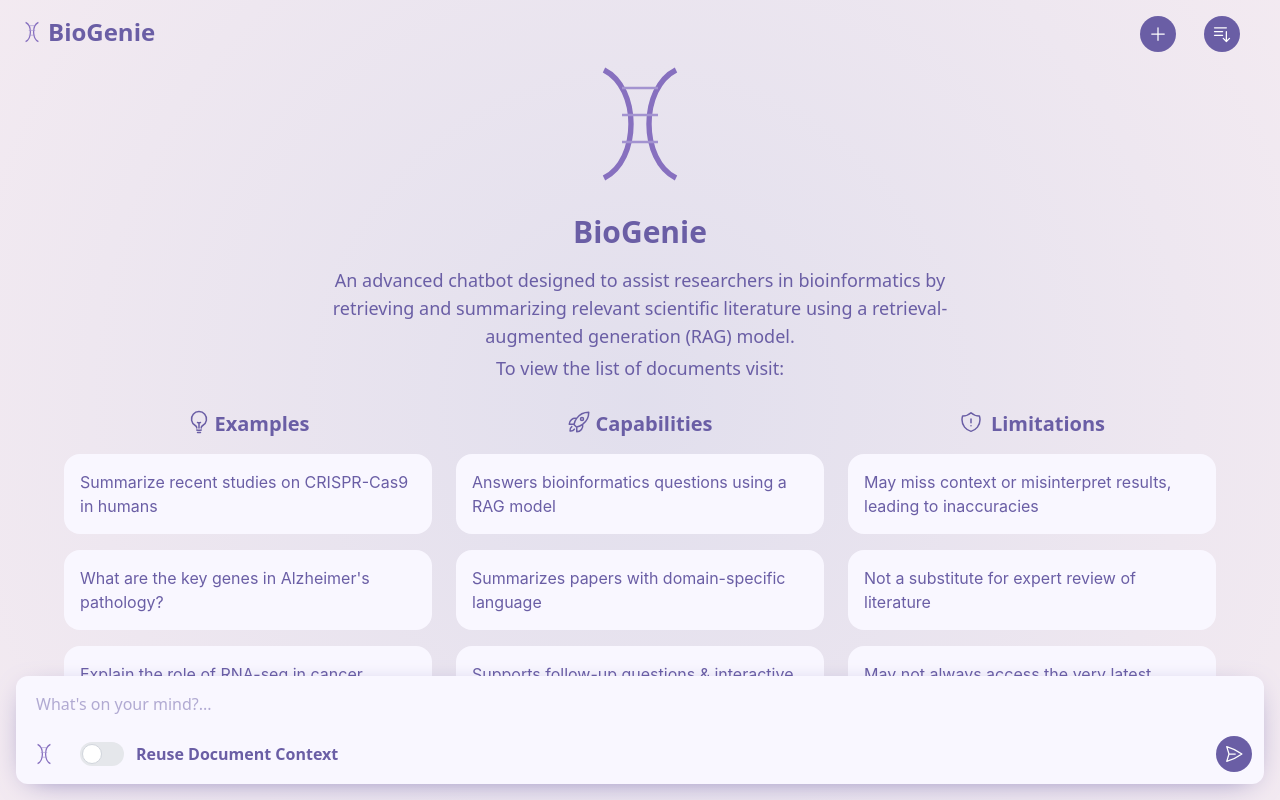
Test: Chat Page › submits a message then cancels the session
This screenshot has width=1280, height=800.
Submit a message
Type "Test cancel flow" into the text box with test id "input" at (640, 712), box x1=28 y1=692 x2=1252 y2=732
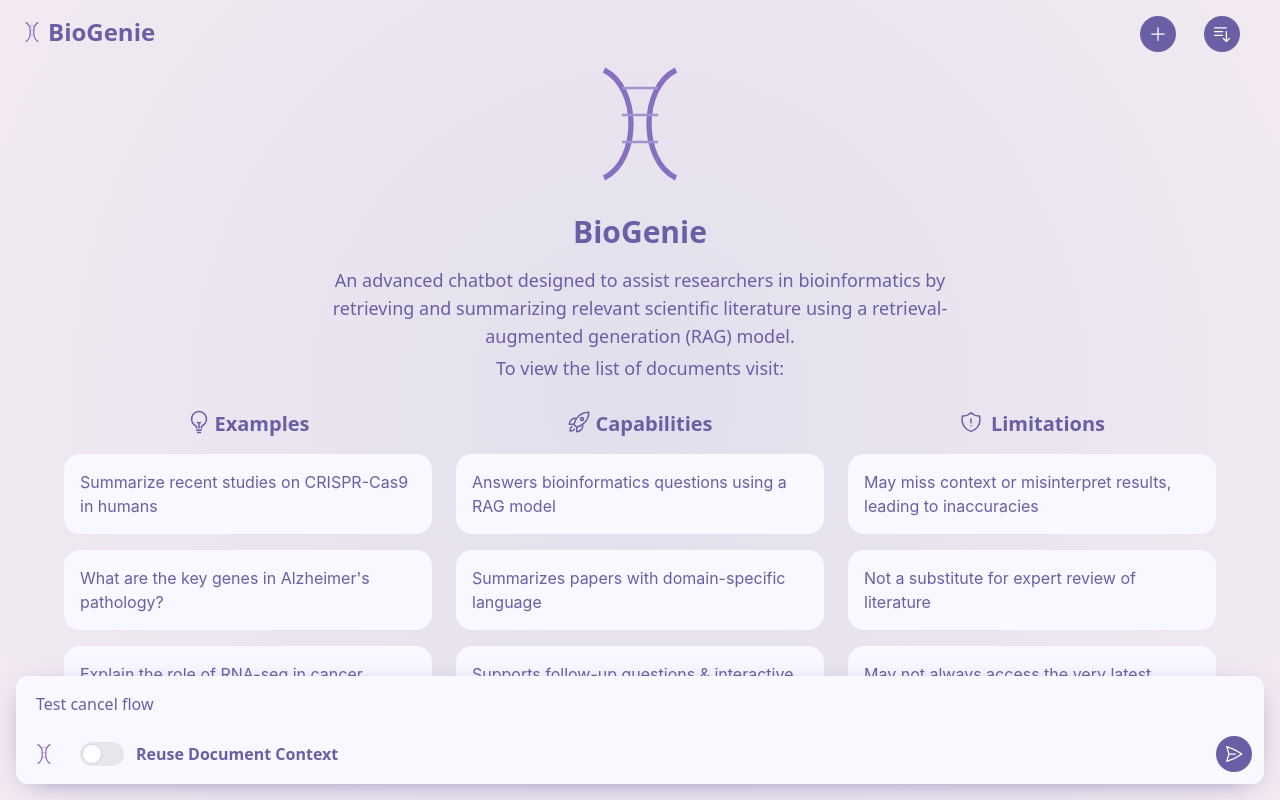
Click the button with test id "submitButton" at (1234, 754), box x1=1216 y1=736 x2=1252 y2=772
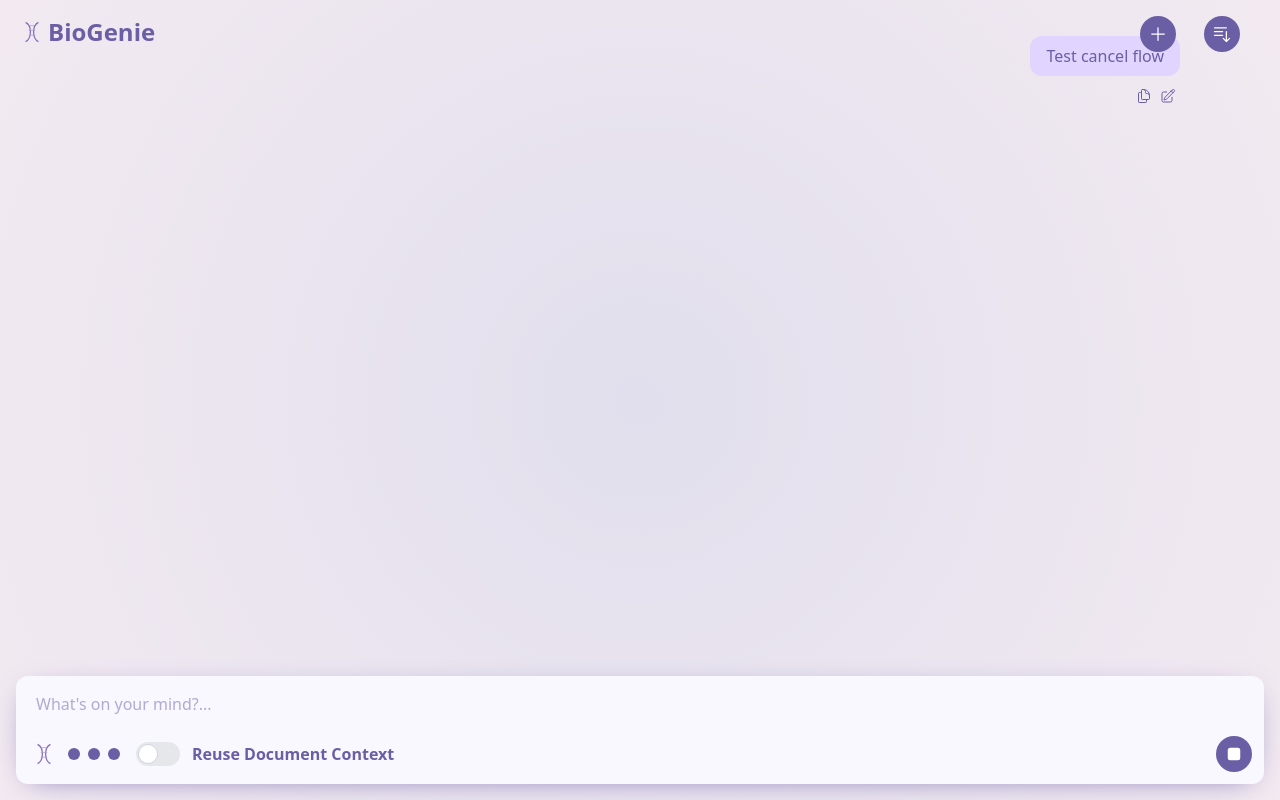
Now the element with test id "spinner" is shown, box x1=60 y1=748 x2=120 y2=760
Click the cancel button
Click the button with test id "cancelButton" at (1234, 754), box x1=1216 y1=736 x2=1252 y2=772
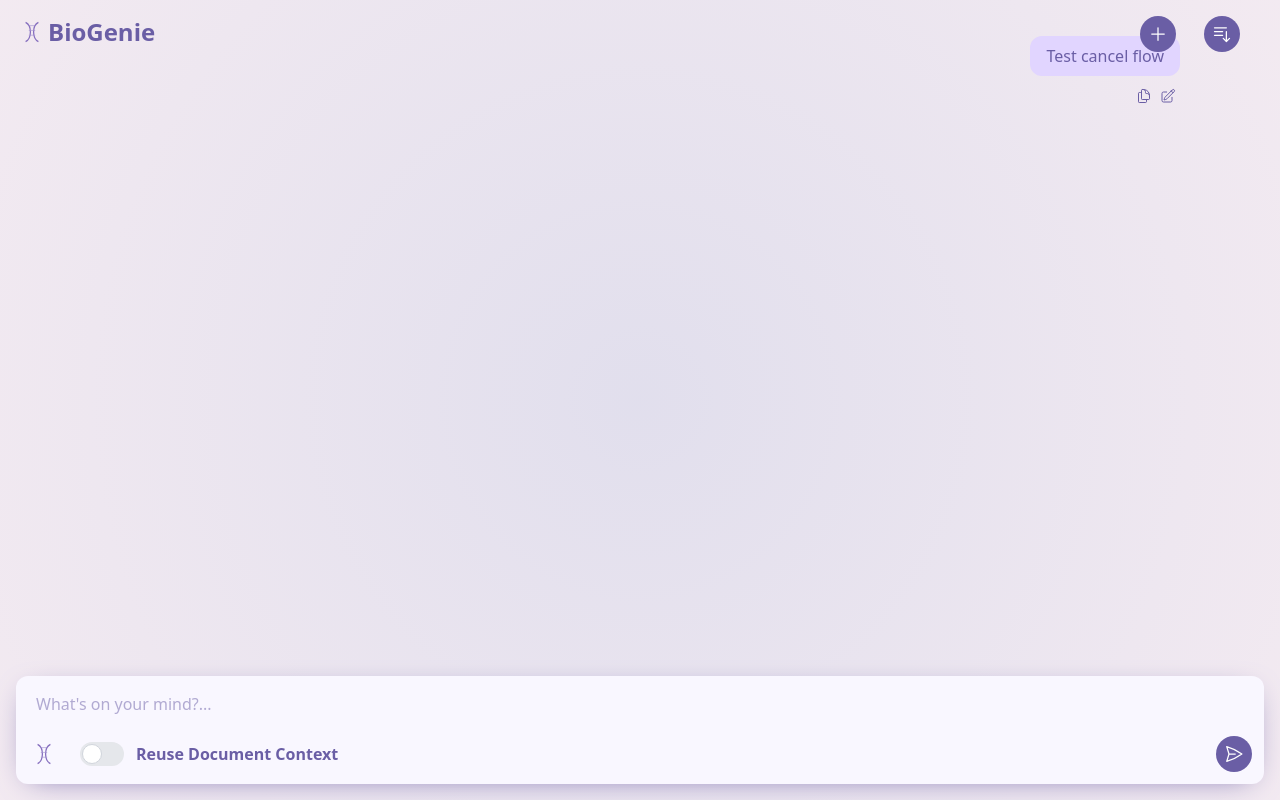
Now the element with test id "spinner" is gone
